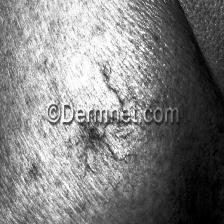Benign Marking or Mole: (70, 124, 140, 192)
